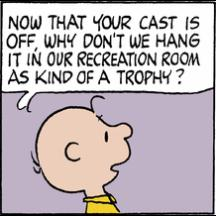charlie: (28, 95, 134, 215)
